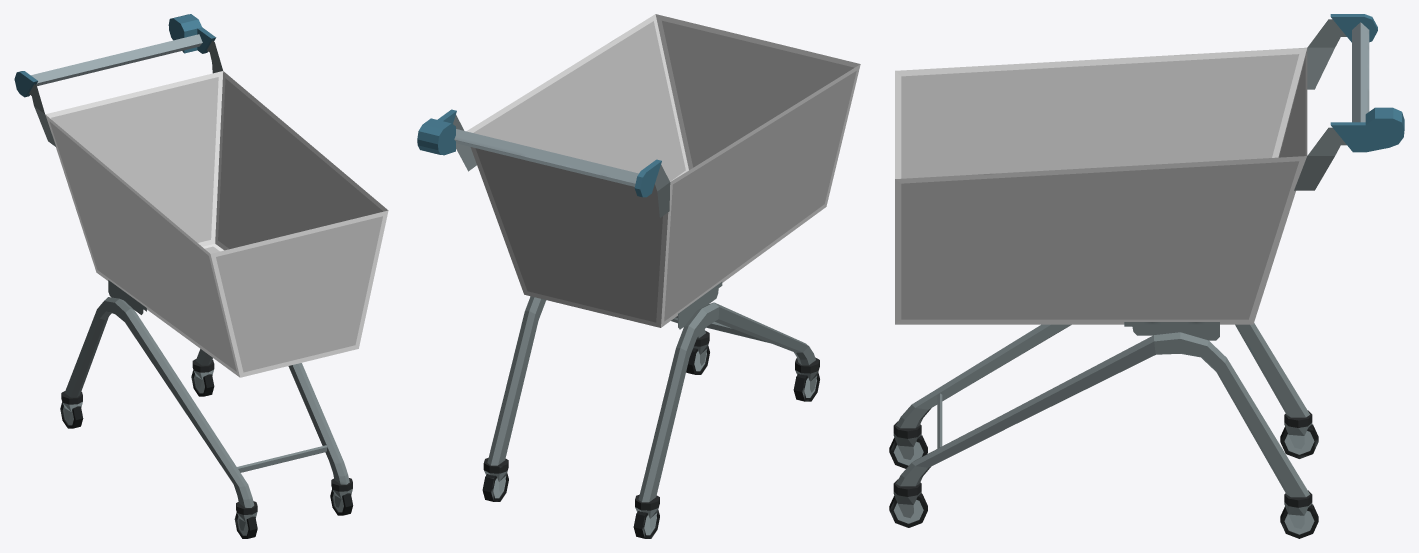
File: shopping cart.fbx
3 views of the same model, side by side, from view 1: azimuth 30°, elevation 25°; view 2: azimuth 150°, elevation 25°; view 3: azimuth 270°, elevation 25° (orthographic). The views are drawn at different scales.
Parts seen in each view (by area): view 1: shopping cart; view 2: shopping cart; view 3: shopping cart.
Part boxes in pixels (x1,y1,x2,y2): shopping cart: (14,14,388,538); shopping cart: (417,14,860,538); shopping cart: (889,14,1404,538).
Bounding box in the file's own units: 71.86 × 131 × 141.
Materials: 2 (1 with a texture image).
